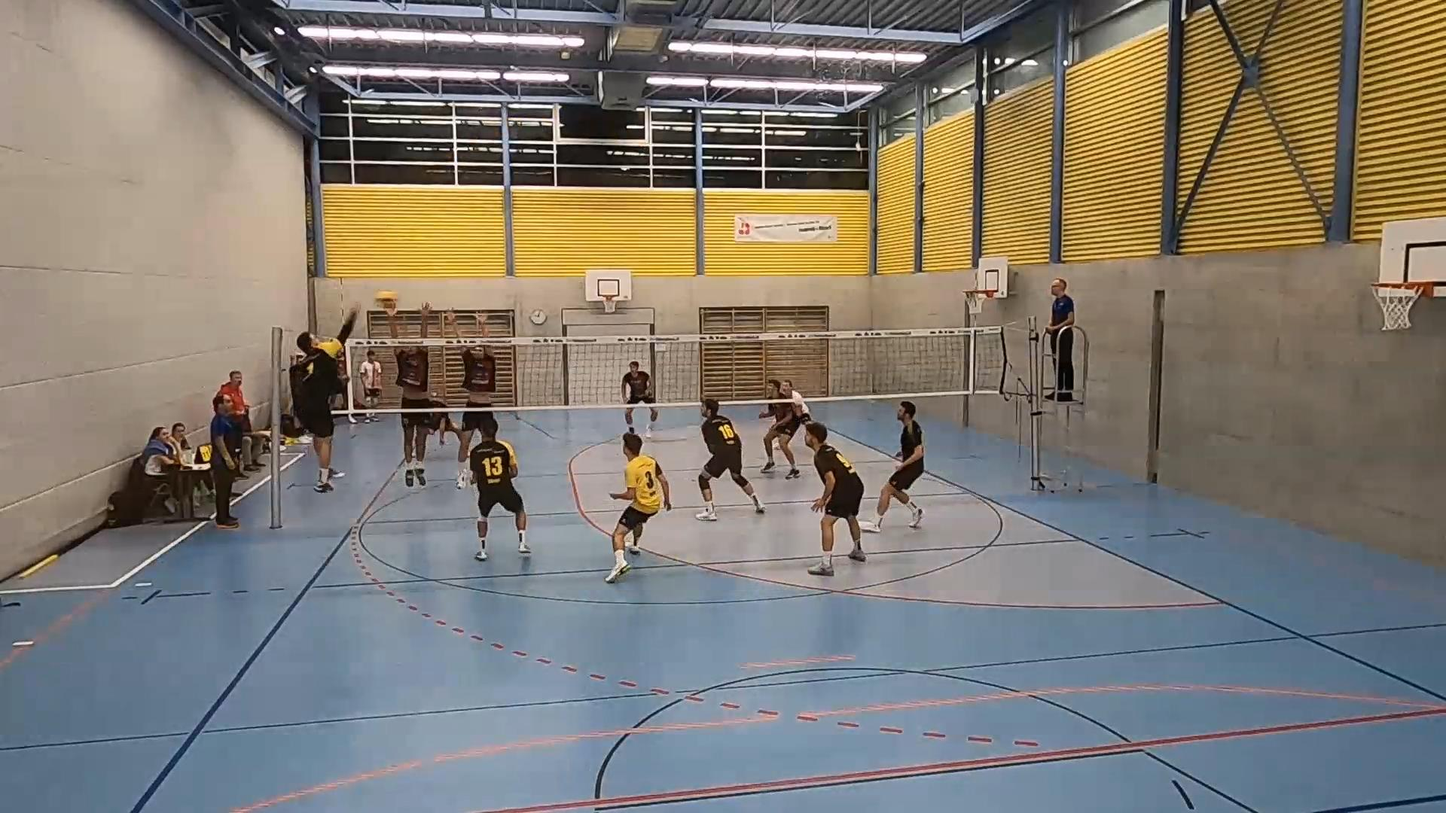Attack: (274, 299, 366, 492)
Block: (378, 296, 434, 498), (443, 301, 499, 490)
Player: (605, 433, 671, 583), (805, 422, 865, 576), (469, 413, 530, 561), (696, 400, 764, 521), (862, 401, 924, 532), (761, 379, 810, 479), (758, 379, 791, 473), (622, 361, 657, 437), (426, 393, 462, 447)
ball: (374, 294, 401, 307)
